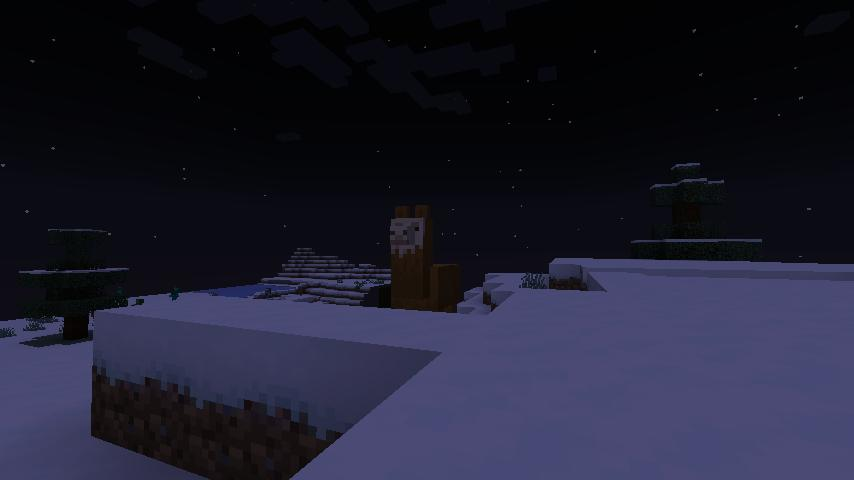llama: (386, 200, 464, 313)
